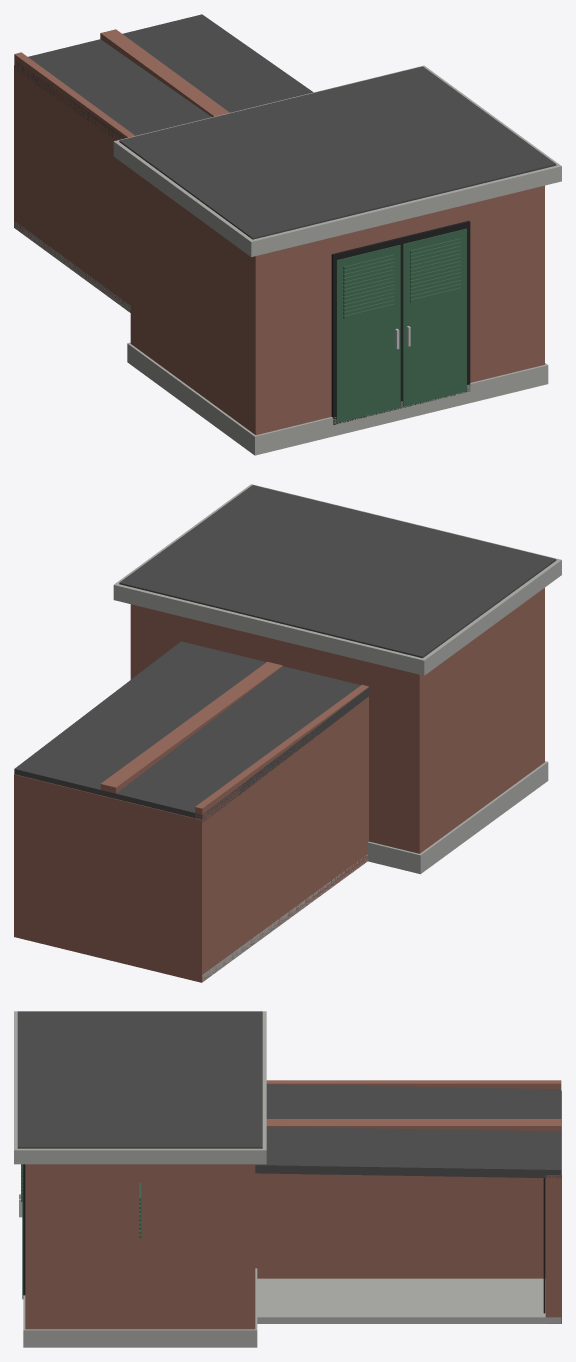
Rendered from heron-reach-sl-structures.glb.
3 renders of one model, top to bottom at view 1: azimuth 30°, elevation 25°; view 2: azimuth 150°, elevation 25°; view 3: azimuth 270°, elevation 25°, orthographic. The views are drawn at different scales.
Visible parts, largest first — view 1: hr_prop_substation, hr_prop_garage_bay, hr_prop_garage_end_wall; view 2: hr_prop_substation, hr_prop_garage_bay, hr_prop_garage_end_wall; view 3: hr_prop_substation, hr_prop_garage_bay, hr_prop_garage_end_wall.
Part boxes in pixels (x1,y1,x2,y2): hr_prop_substation: [113, 65, 561, 455]; hr_prop_garage_bay: [14, 14, 313, 312]; hr_prop_garage_end_wall: [100, 29, 229, 117]; hr_prop_substation: [113, 484, 561, 874]; hr_prop_garage_bay: [14, 641, 368, 982]; hr_prop_garage_end_wall: [100, 661, 282, 793]; hr_prop_substation: [14, 1011, 266, 1347]; hr_prop_garage_bay: [255, 1080, 561, 1323]; hr_prop_garage_end_wall: [255, 1119, 561, 1278].
Size of the model in its own units: 4.62 by 2.92 by 7.16.
